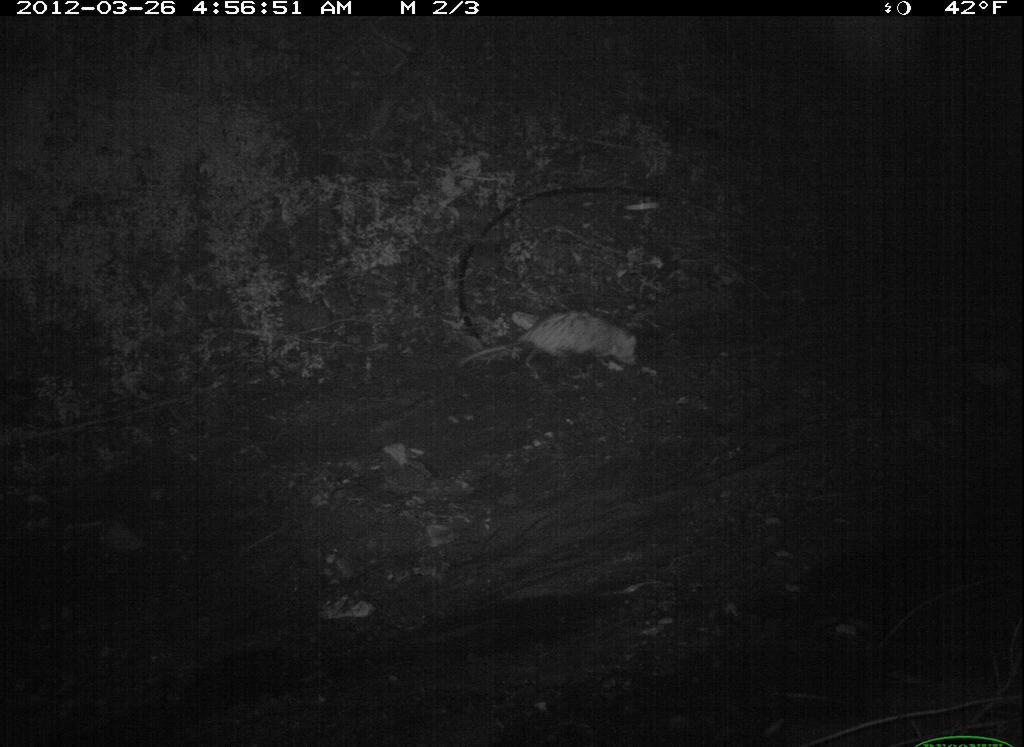opossum: (465, 303, 647, 395)
